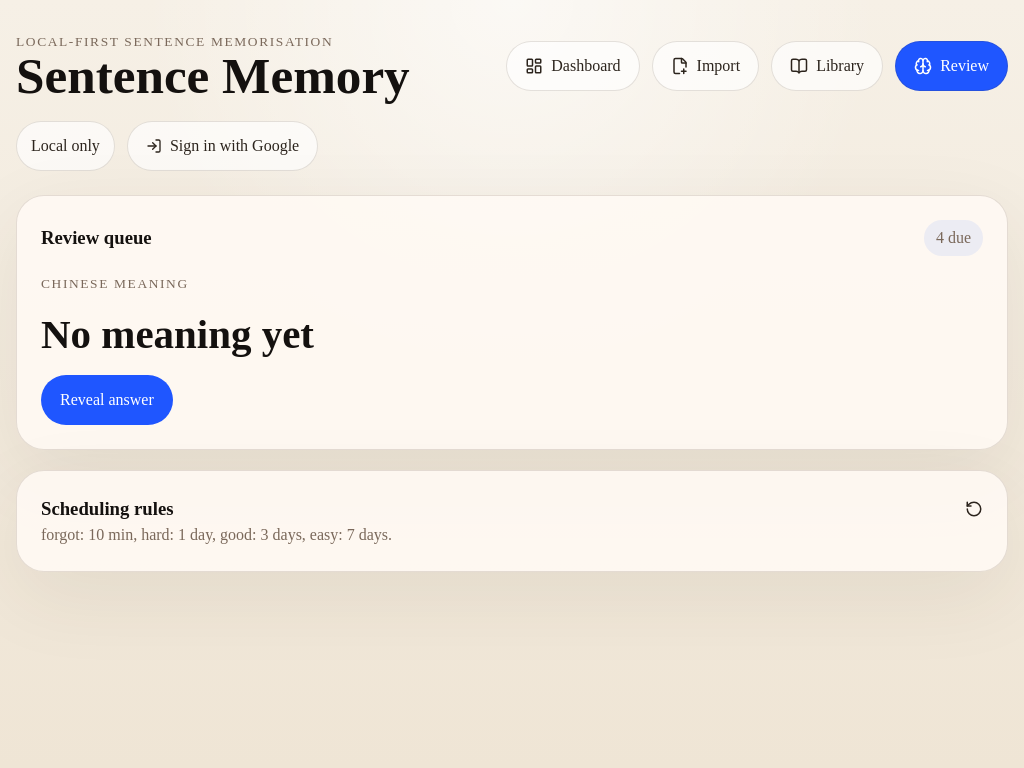
Scenario: App acceptance flow › renders empty Chinese prompts safely and records review logs after an easy review
Expected: the heading "Review queue" is shown, top-left (41, 224), bottom-right (152, 252)
Expected: the heading "No meaning yet" is shown, top-left (41, 311), bottom-right (314, 357)
Click the button "Reveal answer". click: (107, 400)
box: top-left (41, 375), bottom-right (173, 425)
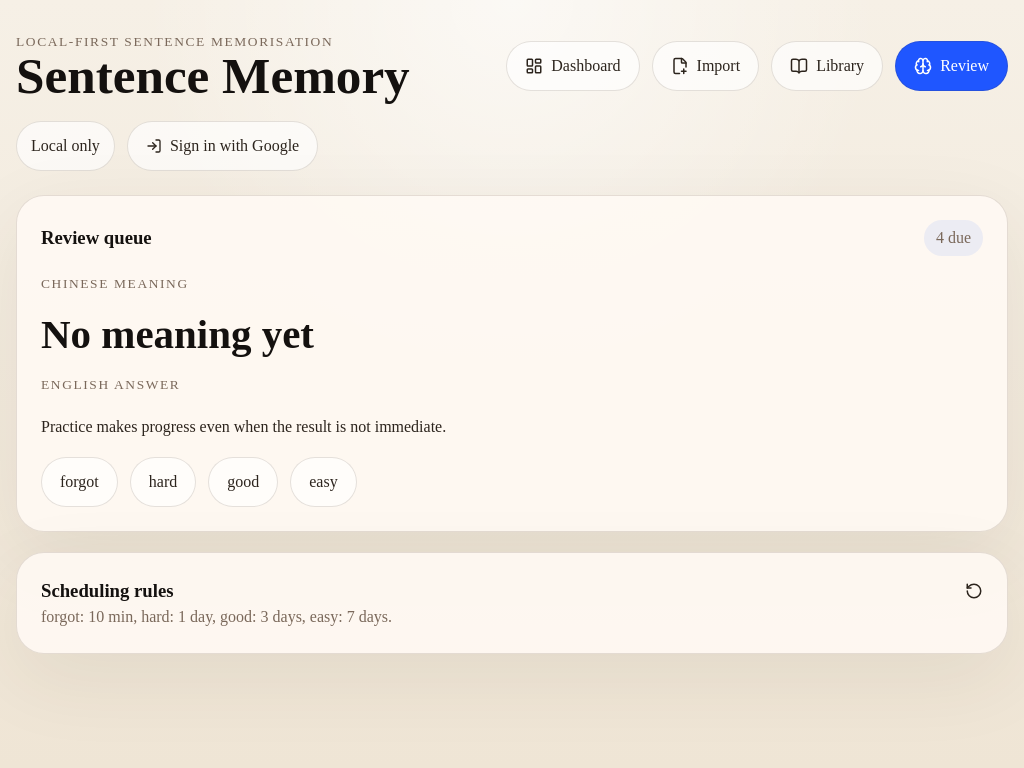
Result: the text "Practice makes progress even when the result is not immediate." is shown at top-left (41, 418), bottom-right (446, 435)
Click the button "easy". click: (324, 482)
box: top-left (290, 457), bottom-right (357, 507)
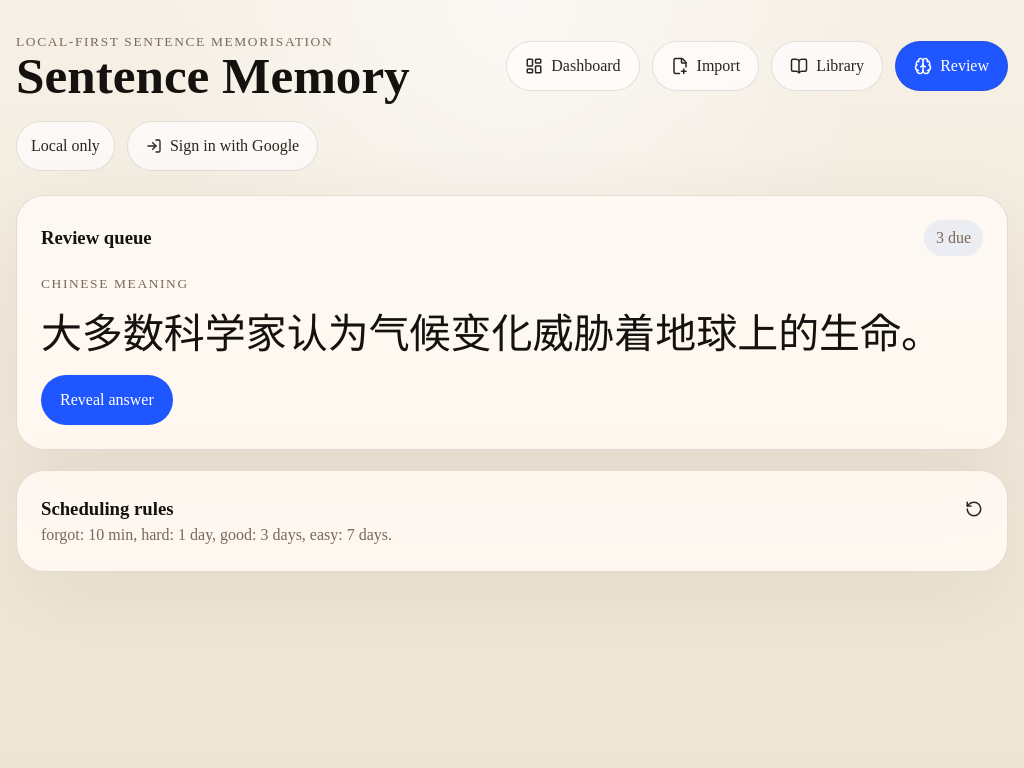
Result: the heading "大多数科学家认为气候变化威胁着地球上的生命。" is shown at top-left (41, 312), bottom-right (983, 357)
